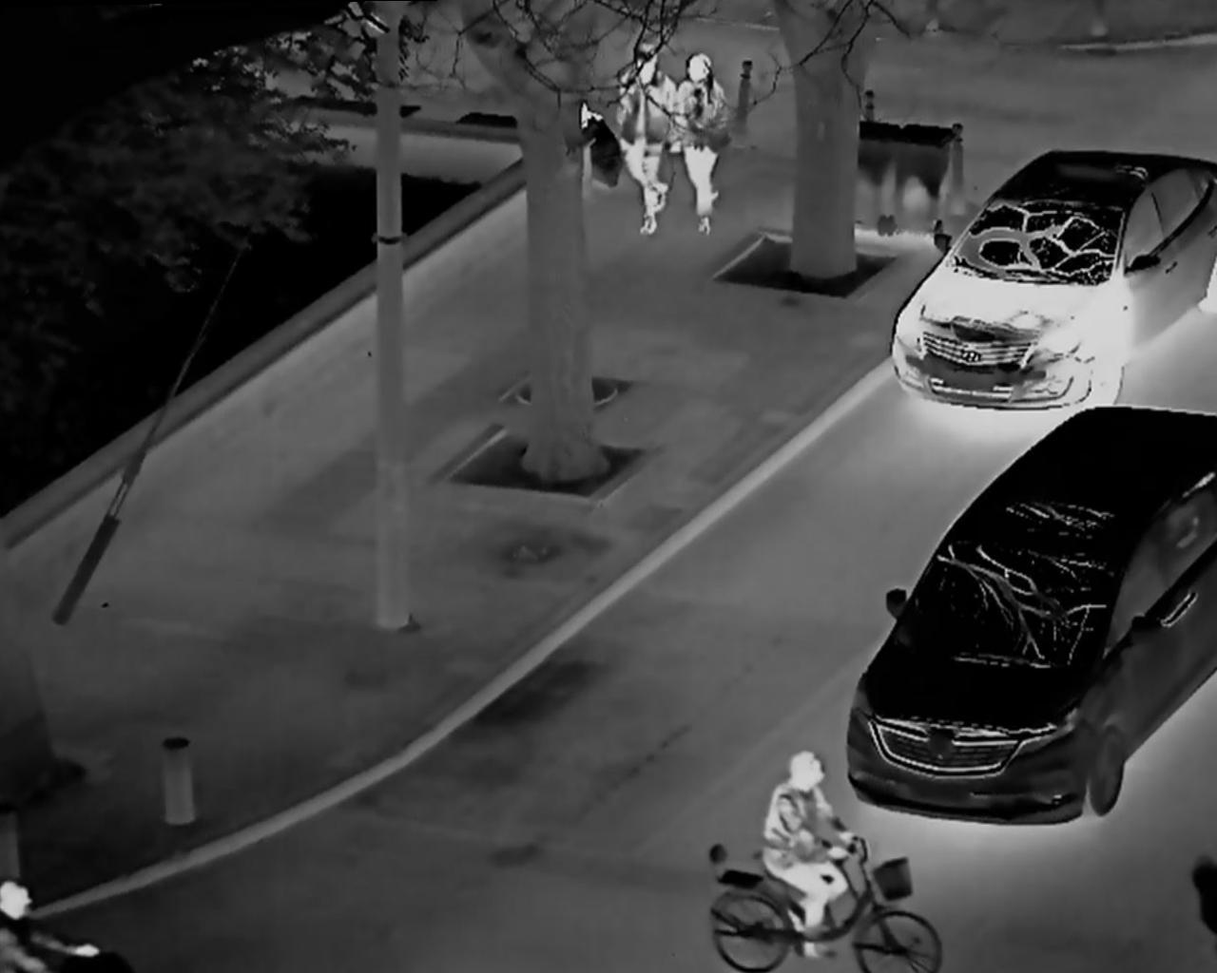person: (757, 735, 857, 968), (603, 30, 684, 248), (674, 48, 739, 230)
